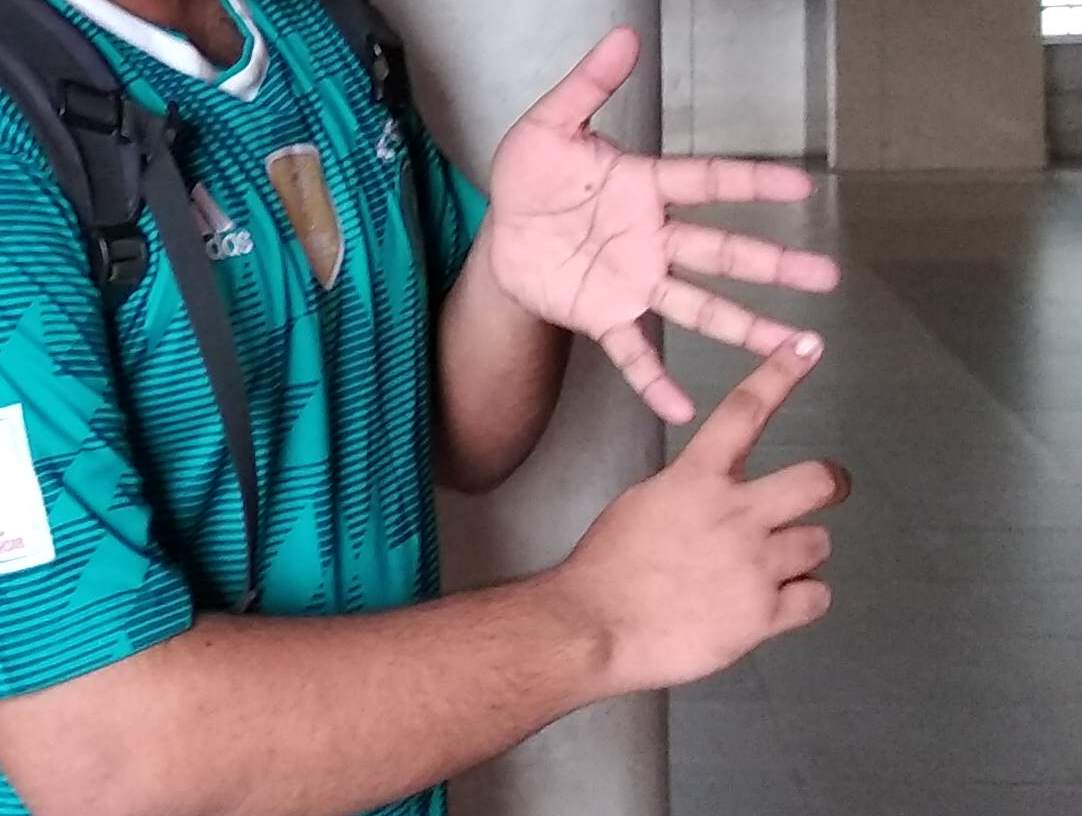e: (556, 62, 821, 663)
